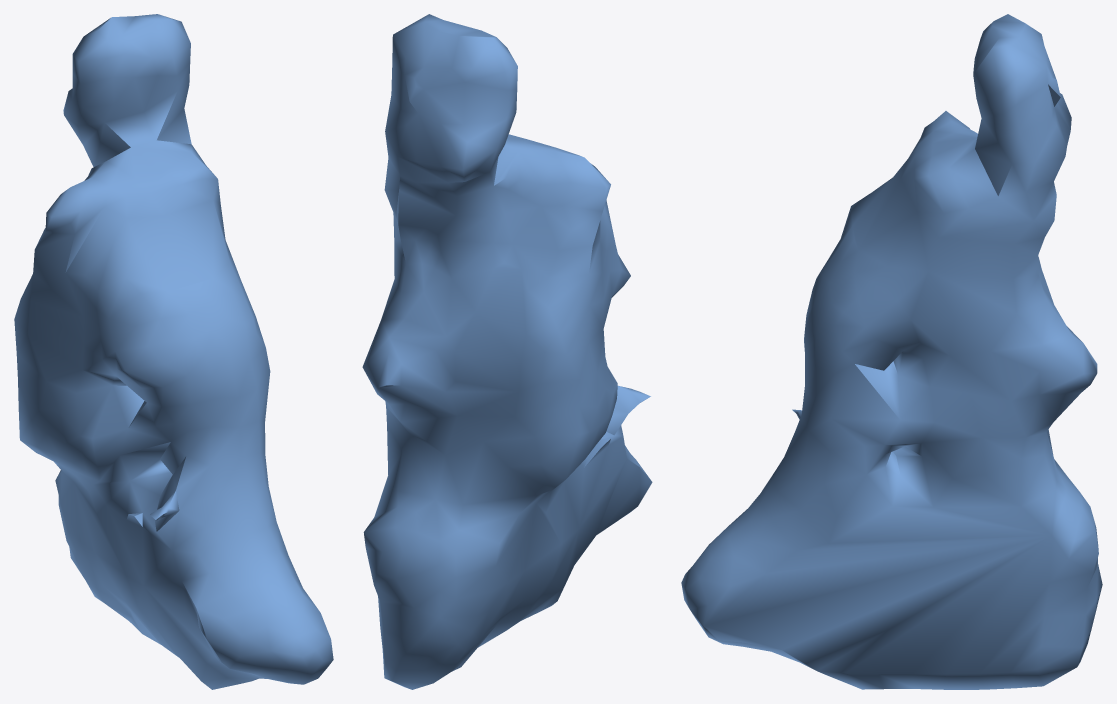
Rendered from spl-304.glb.
The picture shows the model from 3 angles, left to right: view 1: azimuth 30°, elevation 25°; view 2: azimuth 150°, elevation 25°; view 3: azimuth 270°, elevation 25°; orthographic projection. The views are drawn at different scales.
Visible parts, largest first — view 1: spl-304; view 2: spl-304; view 3: spl-304.
Part boxes in pixels (x1,y1,x2,y2): spl-304: [14, 14, 333, 689]; spl-304: [362, 14, 652, 689]; spl-304: [681, 14, 1102, 689].
Size of the model in its own units: 6.19 by 20.94 by 12.4.
